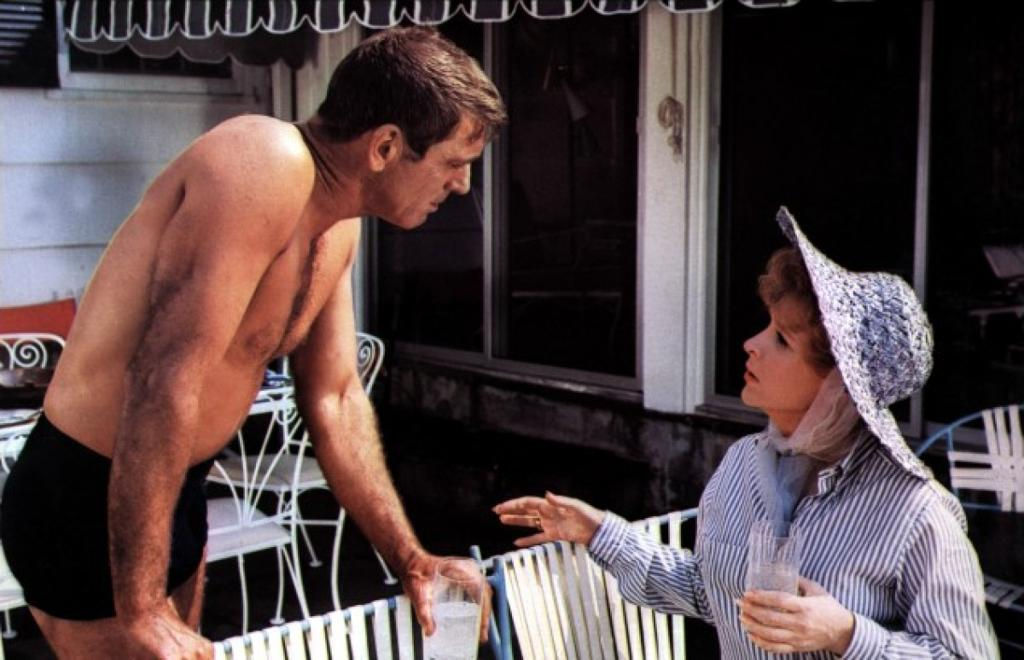face: (736, 300, 820, 416), (404, 106, 476, 236)
